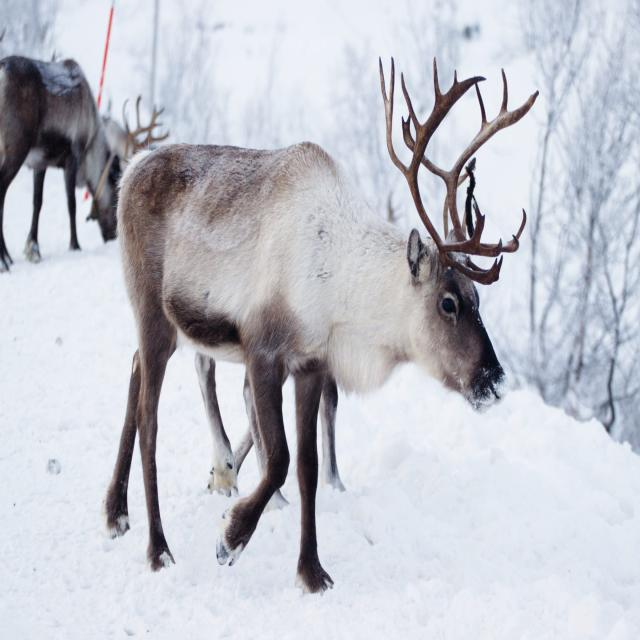Reindeer: (99, 55, 548, 595), (0, 31, 166, 288)
